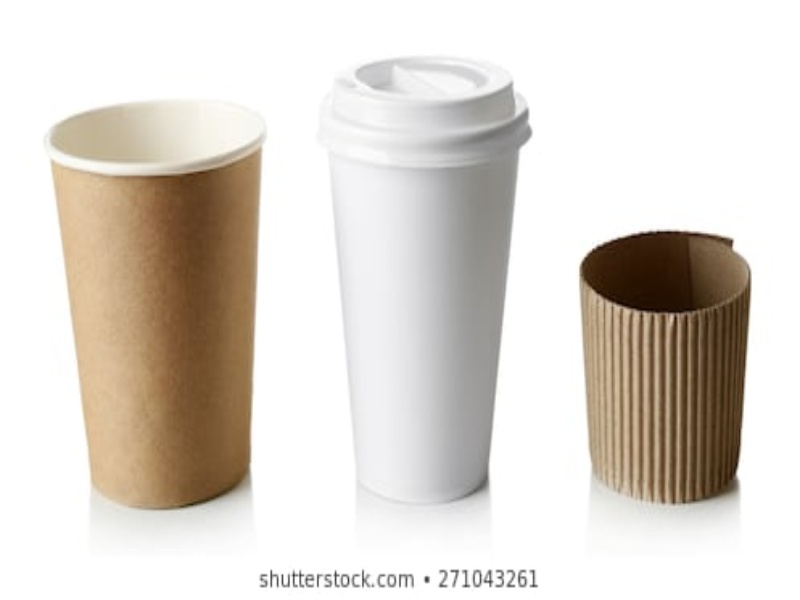coffee-lid: (316, 46, 534, 166)
plastic-cup: (46, 100, 270, 510), (318, 52, 507, 506)
